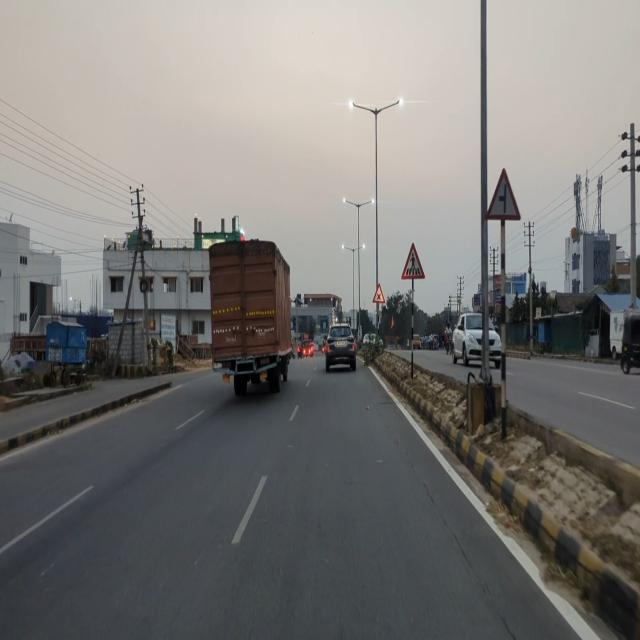bien_cam: (483, 162, 522, 224), (400, 240, 422, 282), (372, 282, 386, 302)
